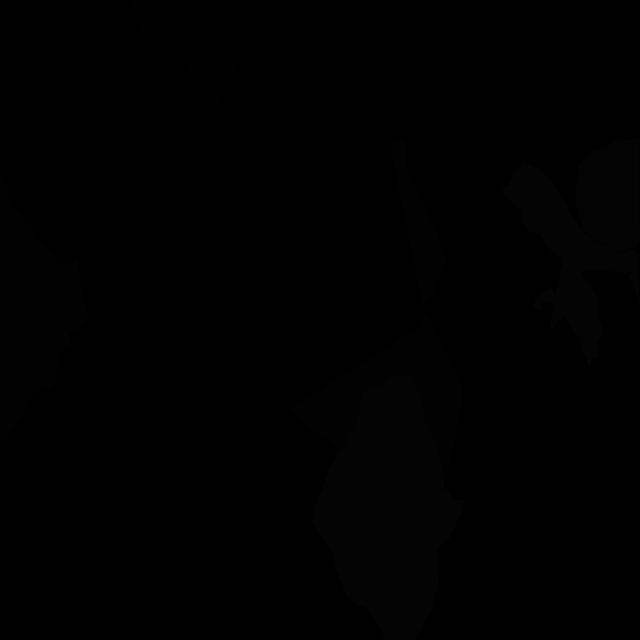cardboard: (287, 312, 464, 486), (0, 167, 88, 447), (390, 138, 448, 308)
metal: (576, 137, 640, 254)
rigid_plastic: (130, 0, 239, 116)
soft_plastic: (313, 375, 464, 640), (502, 162, 640, 366)
